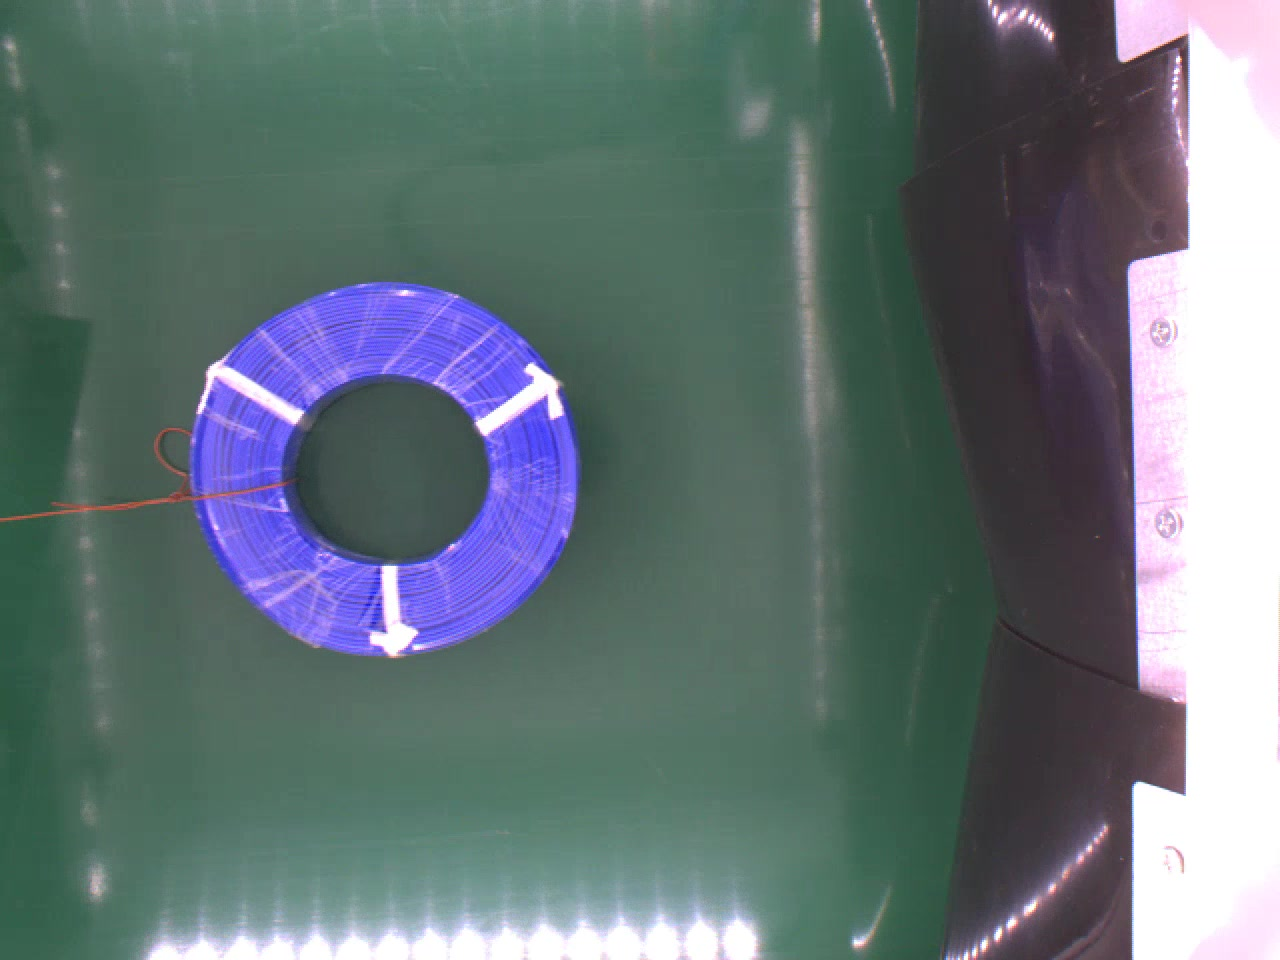blue: (190, 280, 581, 657)
